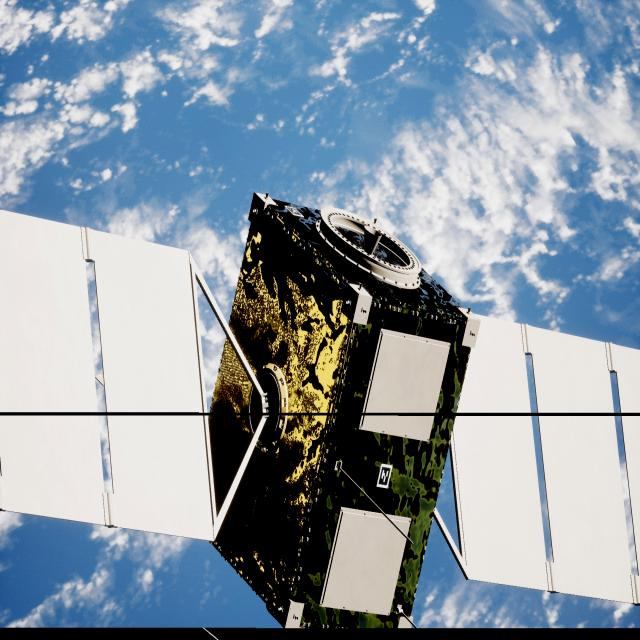medium_debris: (0, 194, 640, 625)
